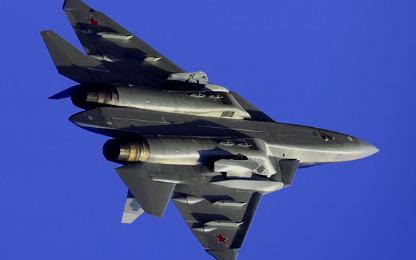SR71: (38, 1, 381, 259)
